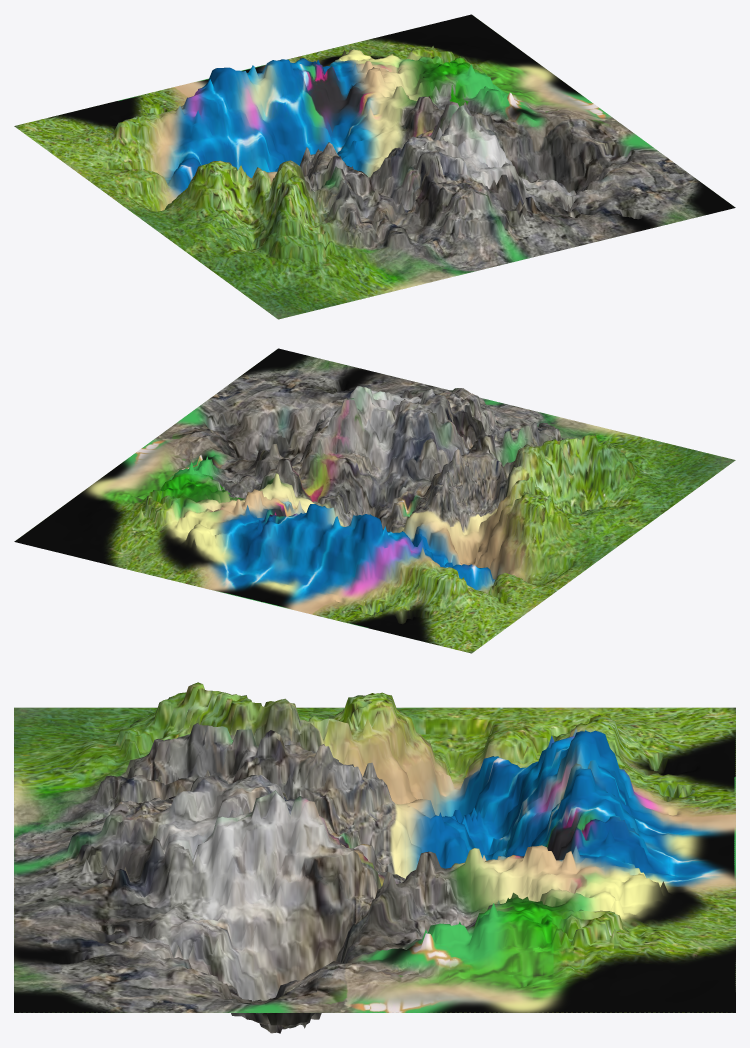
File: terrain2.glb
The picture shows the model from 3 angles, top to bottom: view 1: azimuth 30°, elevation 25°; view 2: azimuth 150°, elevation 25°; view 3: azimuth 270°, elevation 25°; orthographic projection. The views are drawn at different scales.
Visible parts, largest first — view 1: Landscape.006; view 2: Landscape.006; view 3: Landscape.006.
Boxes of the visible parts, <box> form: Landscape.006: <box>14,14,735,319</box>; Landscape.006: <box>14,348,735,653</box>; Landscape.006: <box>14,682,735,1033</box>.
Bounding box in the file's own units: 100 × 28.8 × 100.
Materials: 1 (1 with a texture image).
